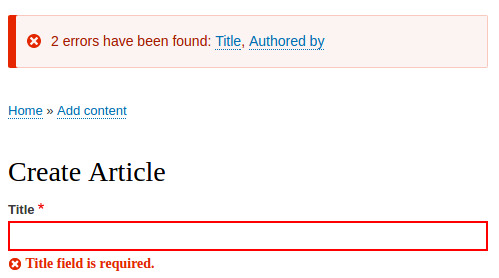error_field: (7, 221, 489, 251)
error_message: (51, 34, 331, 50), (23, 255, 155, 272)
